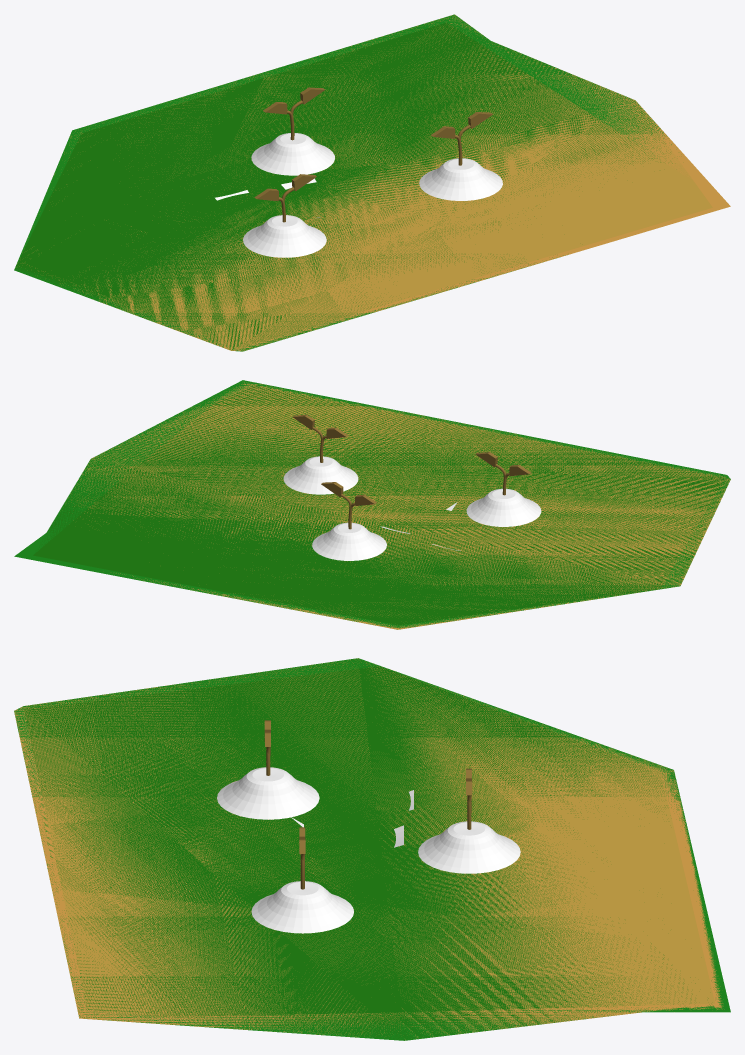
The model's file is task123.glb.
3 views of the same model, one above another, from view 1: azimuth 30°, elevation 25°; view 2: azimuth 150°, elevation 25°; view 3: azimuth 270°, elevation 25° (orthographic). The views are drawn at different scales.
Parts seen in each view (by area): view 1: task123; view 2: task123; view 3: task123.
Part boxes in pixels (left/top/right/bottom): task123: left=14, top=14, right=730, bottom=351; task123: left=14, top=380, right=730, bottom=629; task123: left=14, top=658, right=730, bottom=1040.
Size of the model in its own units: 2.2 by 0.2542 by 1.75.
